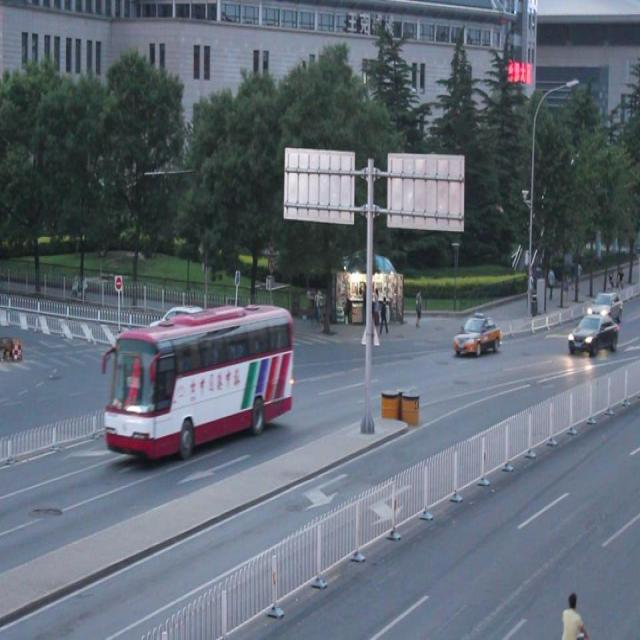car: (149, 307, 216, 359), (566, 310, 617, 355), (451, 312, 500, 356), (585, 290, 622, 317)
van: (108, 296, 294, 458)
